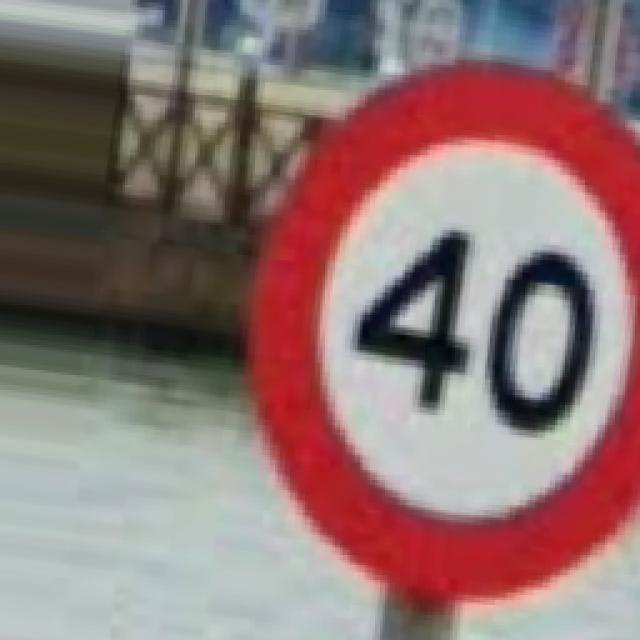Speed Limit -40-: (250, 62, 638, 600)
